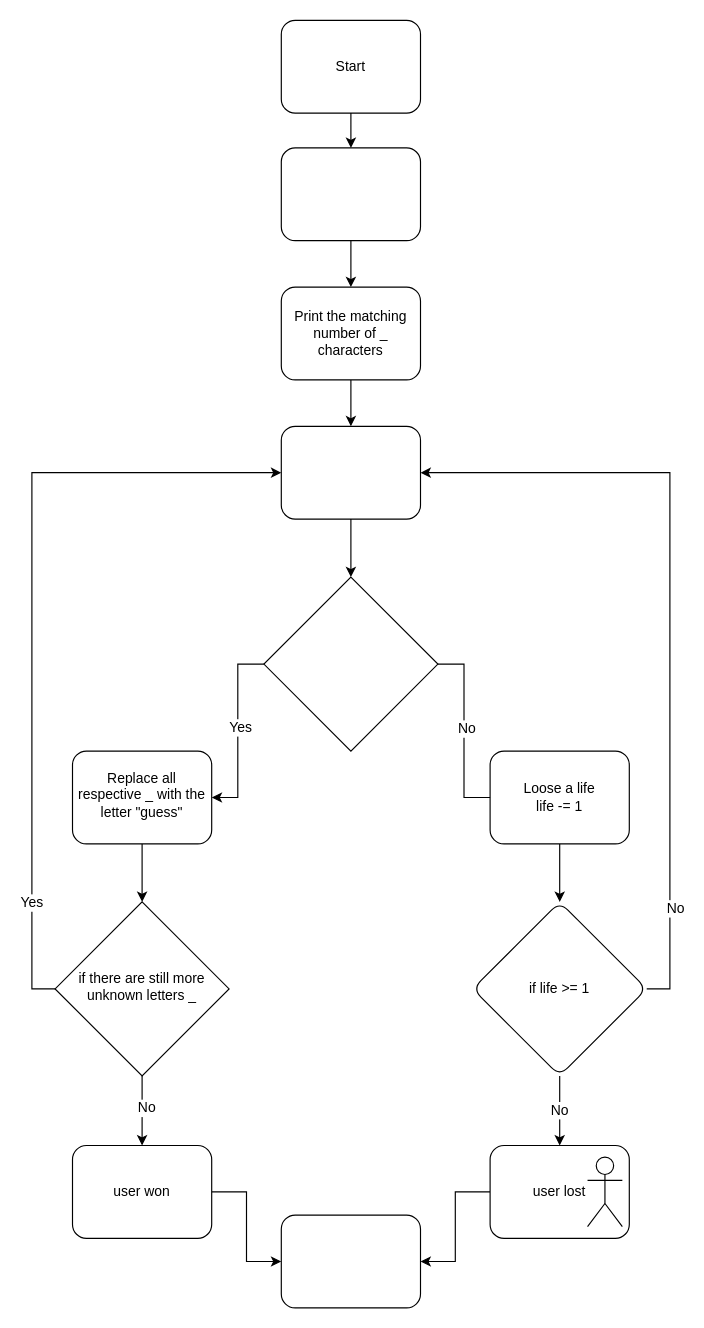
The diagram is 704 pixels wide and 1328 high, and some of its shapes have lost their labels. The shapes that lost their labels are listed below. From the top down, each one's centre as x and y in pixels, then its label:
pixel 350 194: Select a random word from a list (word)
pixel 350 472: Ask user for input one letter. (guess)
pixel 350 663: if "guess" is in "word"
pixel 350 1261: game over
